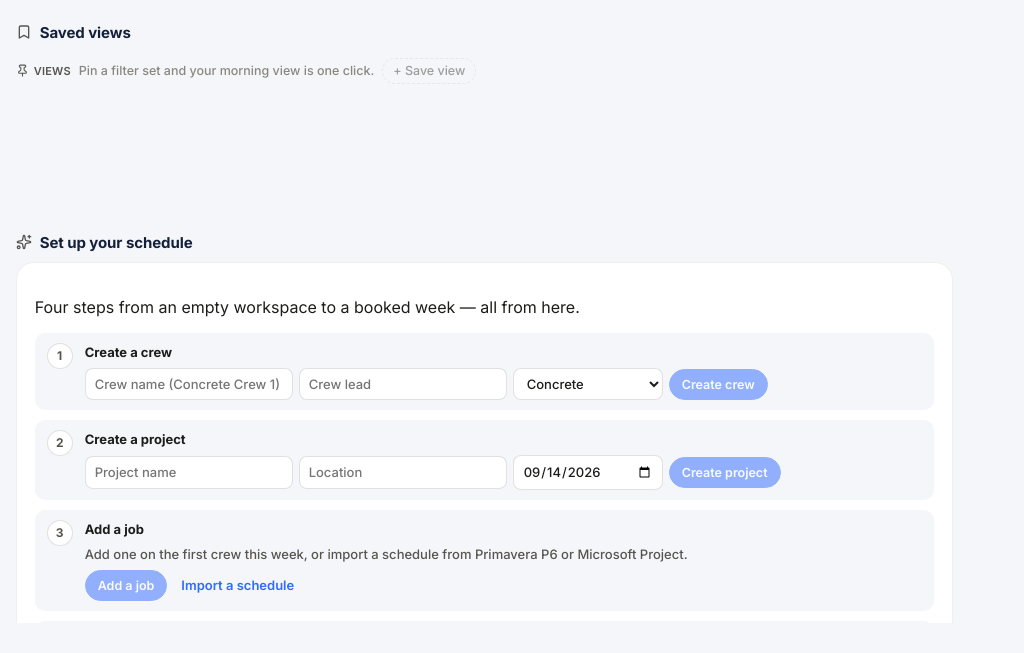
Test: First run › walks an empty workspace through crew, project, job and booking from the landing
The width and height of the screenshot is (1024, 653).
(page scrolled)
Check: the button "Add a job" is disabled, box top-left (85, 570), bottom-right (167, 601)
Type "Concrete Crew 1" into the field labelled "Crew name" at (189, 384), box top-left (85, 368), bottom-right (293, 400)
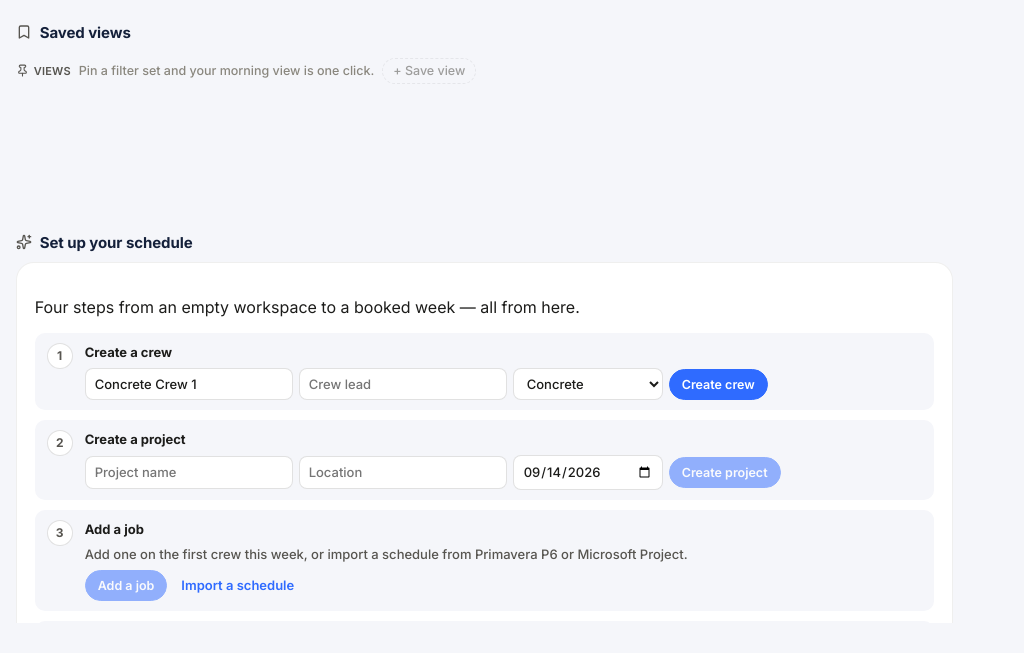
Type "Mike Johnson" into the field labelled "Crew lead" at (403, 384), box top-left (299, 368), bottom-right (507, 400)
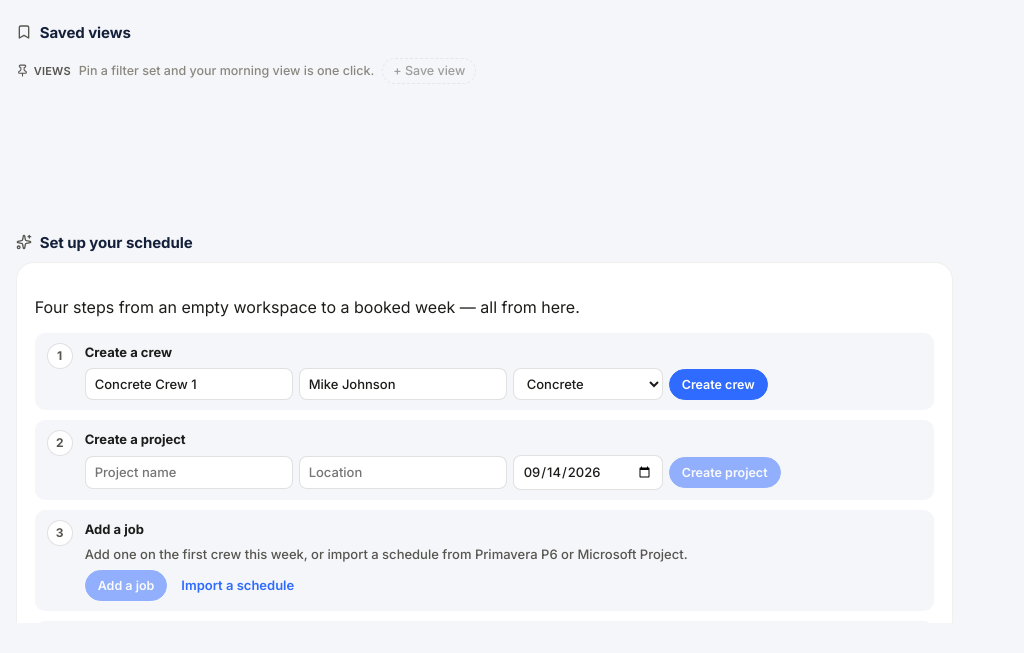
Click the button "Create crew" at (718, 384), box top-left (669, 369), bottom-right (768, 400)
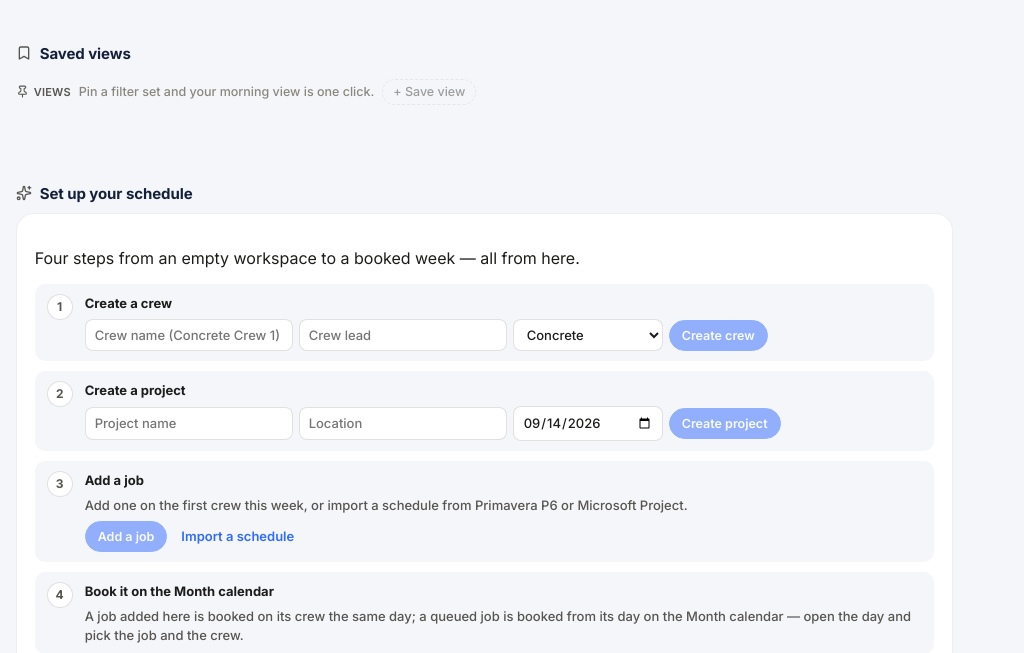
Type "Riverside Office Building" into the field labelled "Project name" at (189, 424), box top-left (85, 407), bottom-right (293, 440)
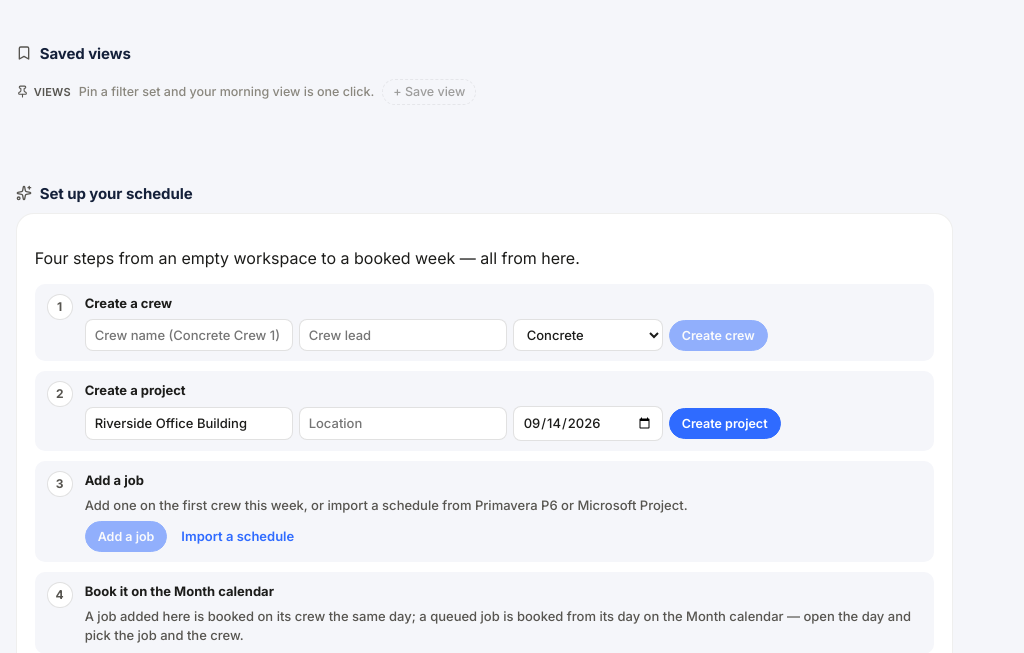
Type "Downtown, Austin" into the field labelled "Location" at (403, 424), box top-left (299, 407), bottom-right (507, 440)
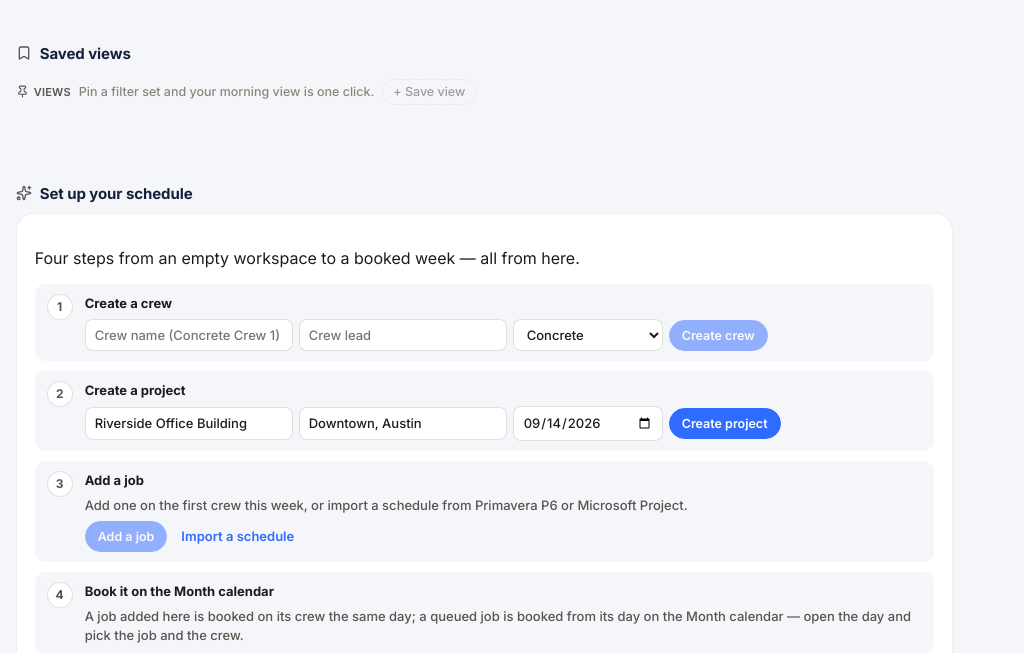
Click the button "Create project" at (725, 424), box top-left (669, 408), bottom-right (781, 439)
(page scrolled)
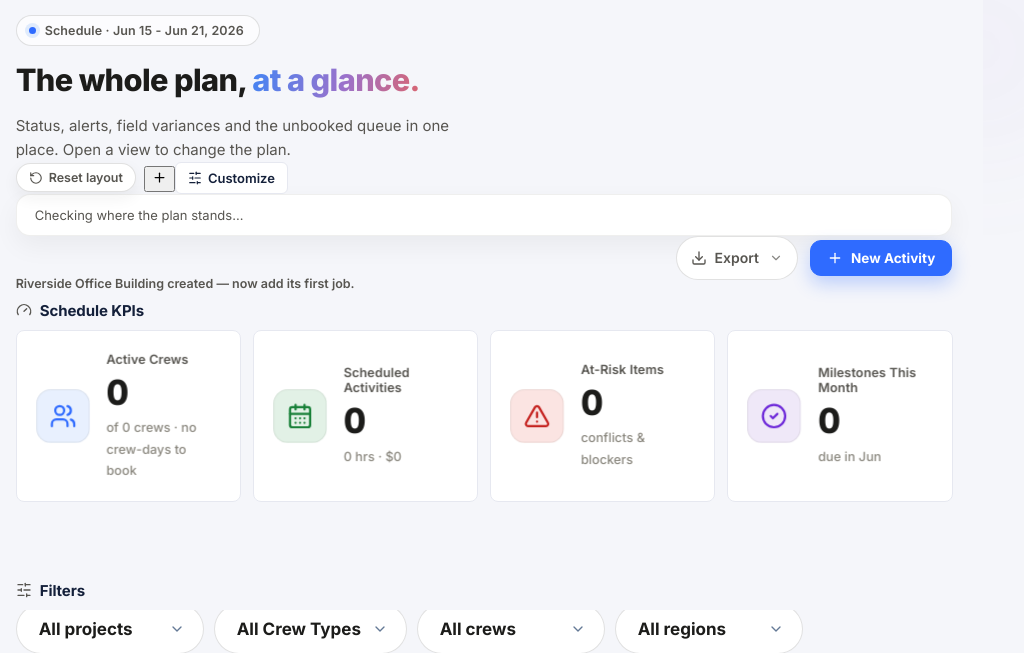
Check: the text with class "gantt-status" reads "Riverside Office Building created — now add its first job.", box top-left (16, 276), bottom-right (355, 291)
